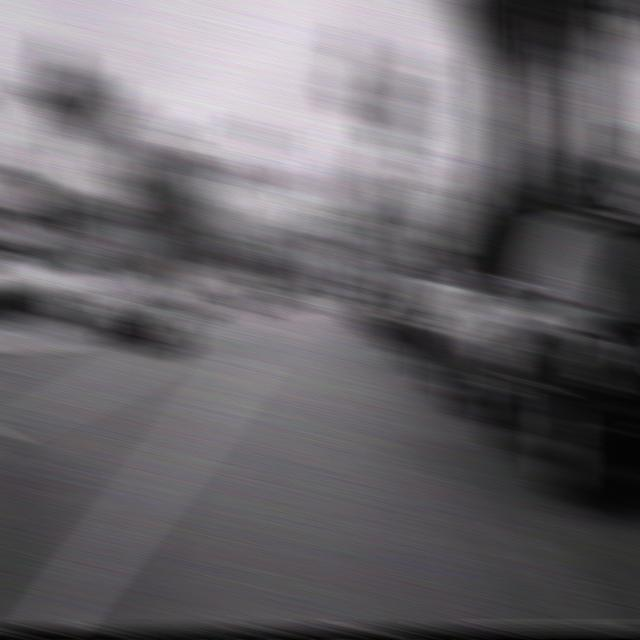pedestrianCrossing: (391, 222, 424, 256)
